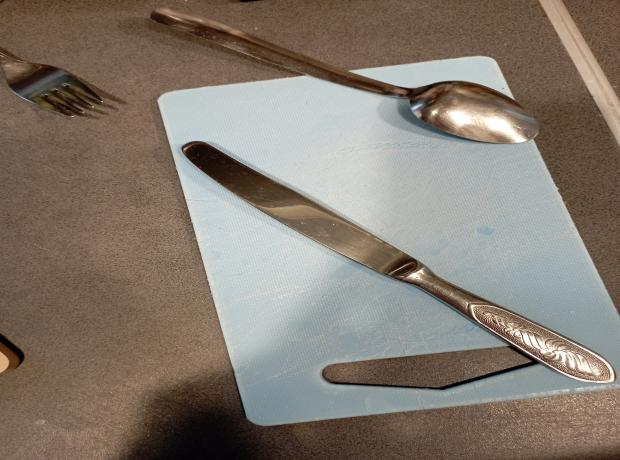metal: (180, 141, 616, 385), (150, 6, 544, 144), (0, 47, 108, 121)
